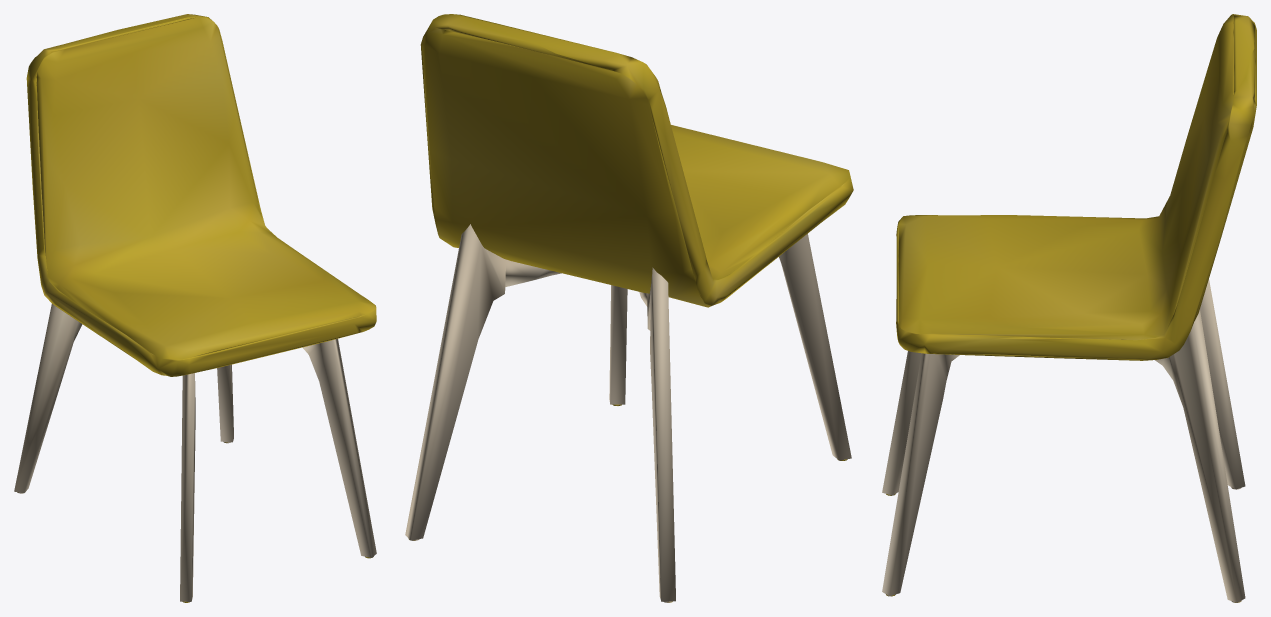
File: chair.obj
3 views of the same model, side by side, from view 1: azimuth 30°, elevation 25°; view 2: azimuth 150°, elevation 25°; view 3: azimuth 270°, elevation 25° (orthographic). The views are drawn at different scales.
Size of the model in its own units: 0.4482 by 0.8387 by 0.5829.
